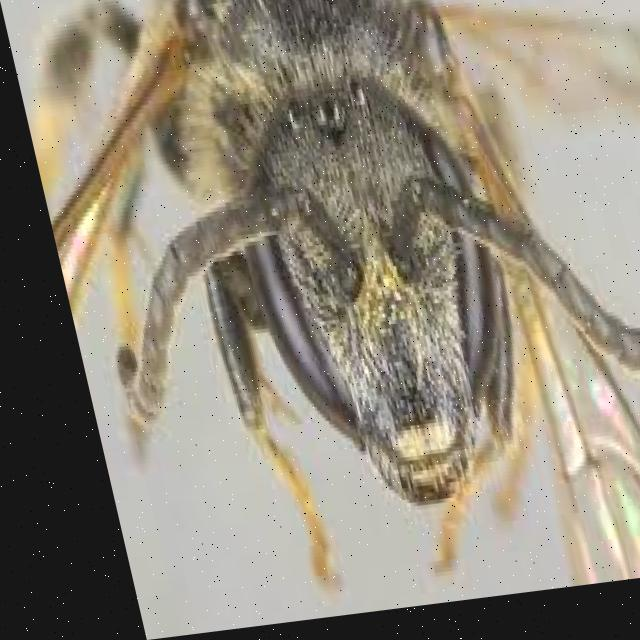Lasioglossum: (37, 0, 640, 622)
